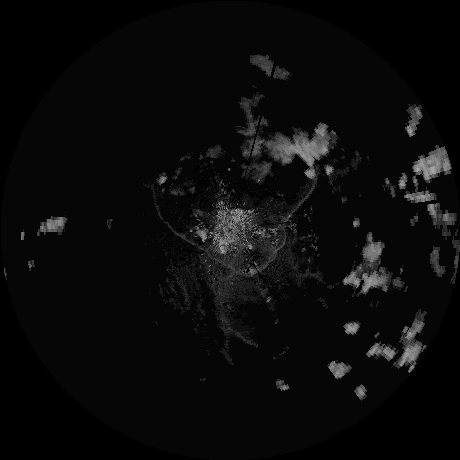frontgust: (151, 185, 252, 276), (257, 173, 315, 271)
